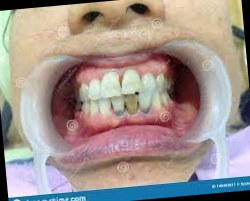Tooth Discoloration: (109, 91, 155, 118)
